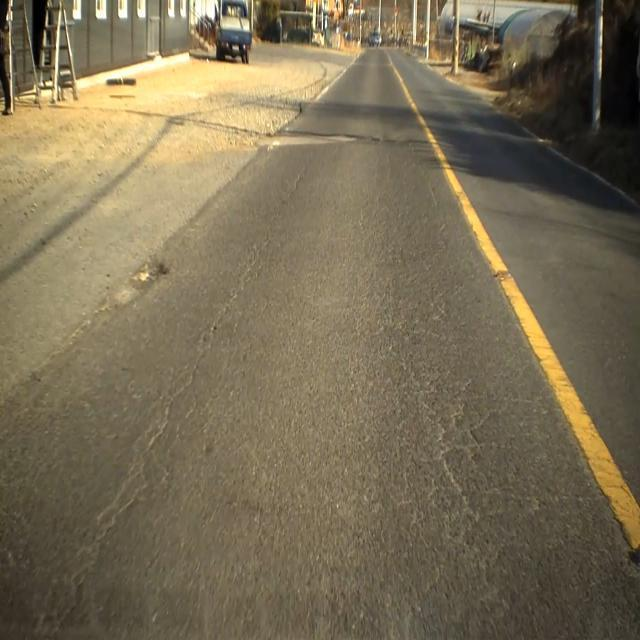pothole: (114, 249, 171, 322)
